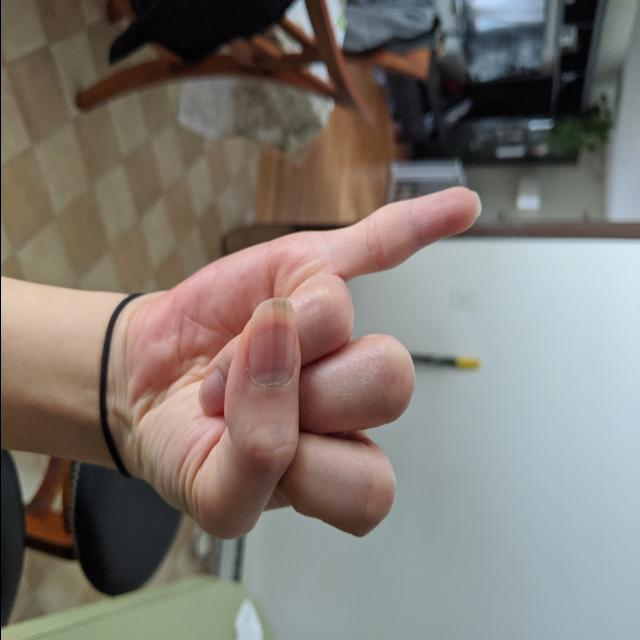I: (116, 182, 484, 550)
